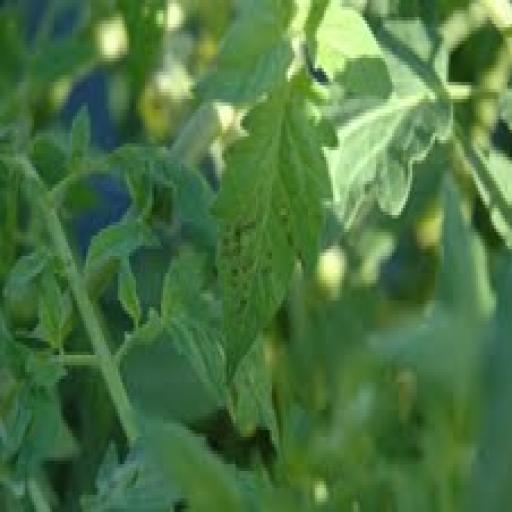Bacterial Spot: (206, 51, 344, 396)
